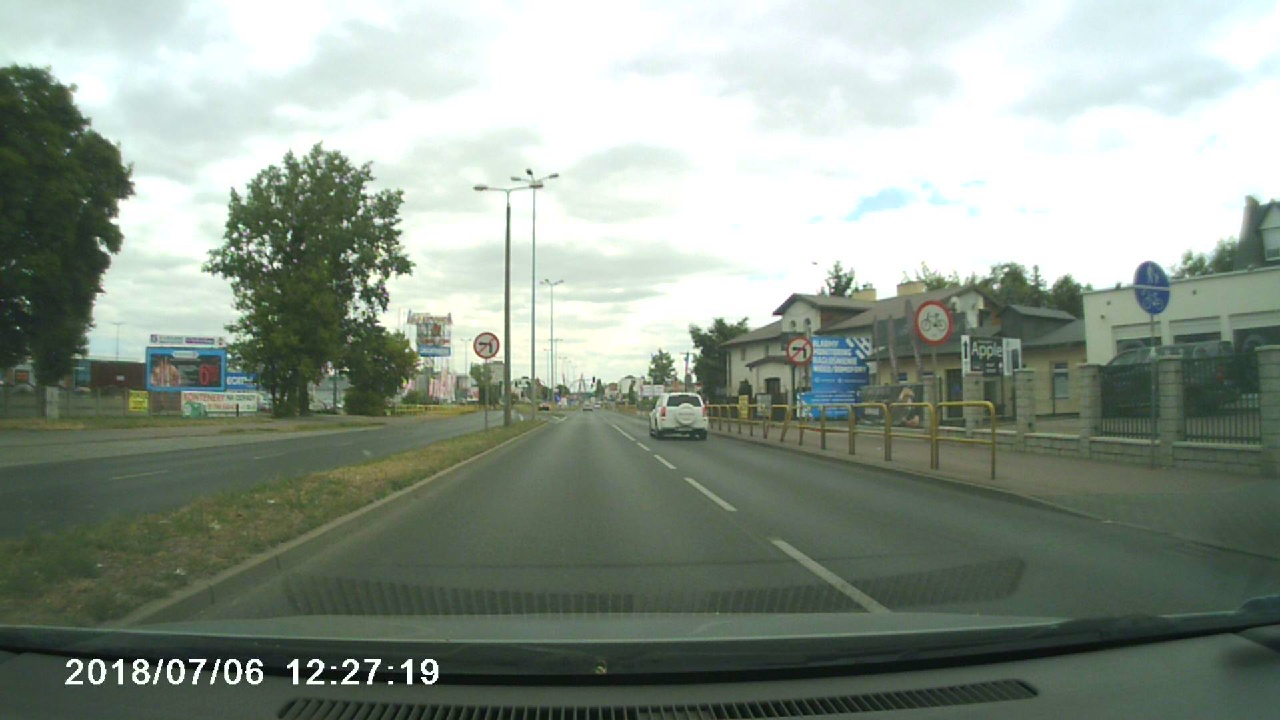B21: (474, 331, 500, 359), (788, 338, 813, 365)
